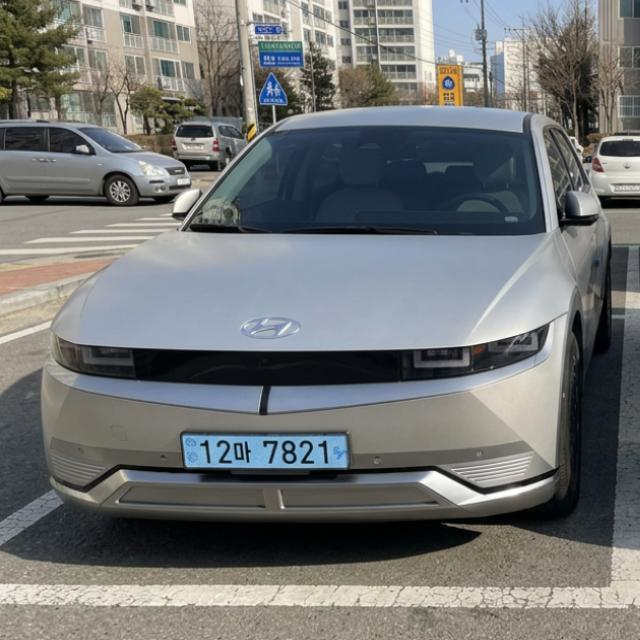car: (166, 424, 377, 484)
carev: (328, 432, 350, 471), (177, 433, 200, 470)
